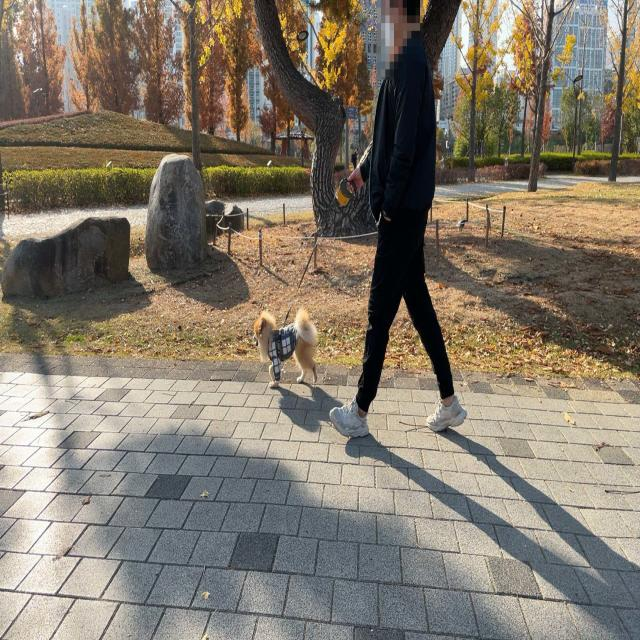Leashed_Dog: (251, 175, 383, 389)
